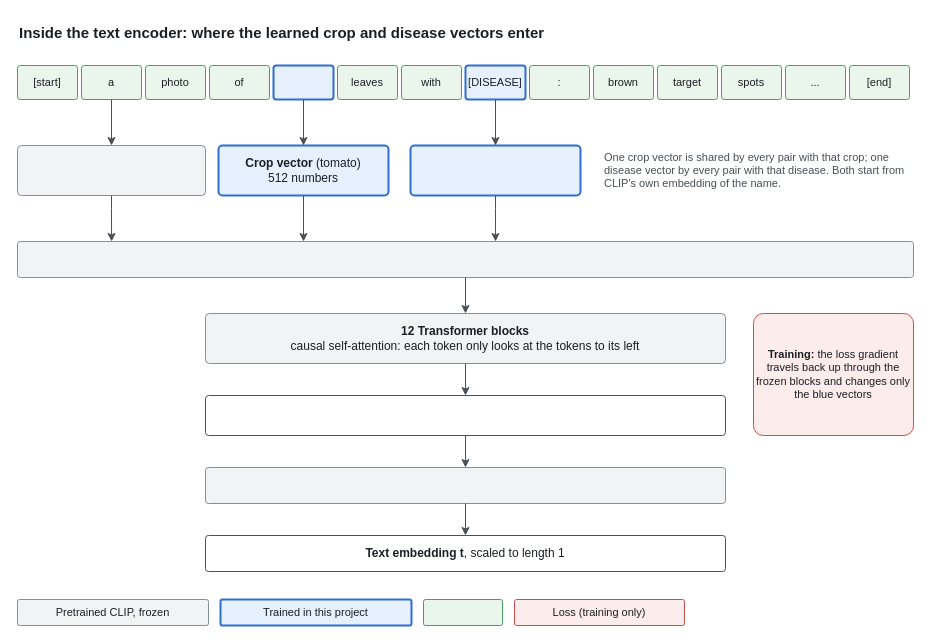
This 935x643 diagram has some shape labels left out. Each missing label, with the box of its shape:
[CROP]: (272, 64, 334, 100)
Data in: (422, 598, 502, 626)
Disease vector (early blight) 512 numbers: (409, 144, 581, 196)
Fixed words: looked up in CLIP's word-embedding table: (16, 144, 206, 196)
Keep the output at [end] : the only position that has read the whole sentence: (204, 394, 726, 436)
Layer norm + linear projection to 512 numbers: (204, 466, 726, 504)
Sequence of word vectors (one 512-number vector per token) + position embeddings: (16, 240, 914, 278)
